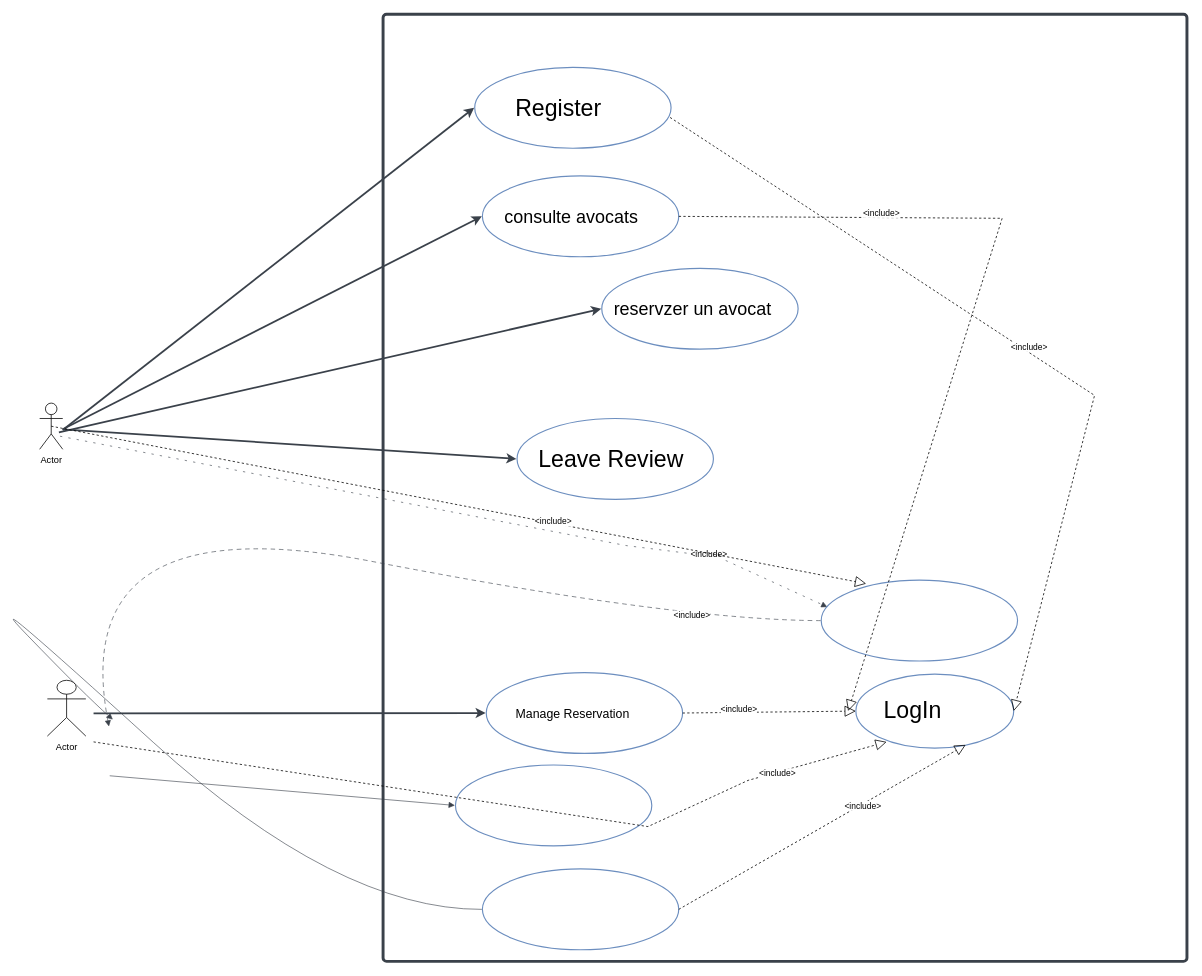
Some shapes in this 1202 by 976 pixel diagram are drawn without their labels. Each missing label, with the centre of its shape:
"Gestion des disponibilités" goes at pixel 580 909.
"manage profile" goes at pixel 919 620.
"View Statistics" goes at pixel 553 805.
